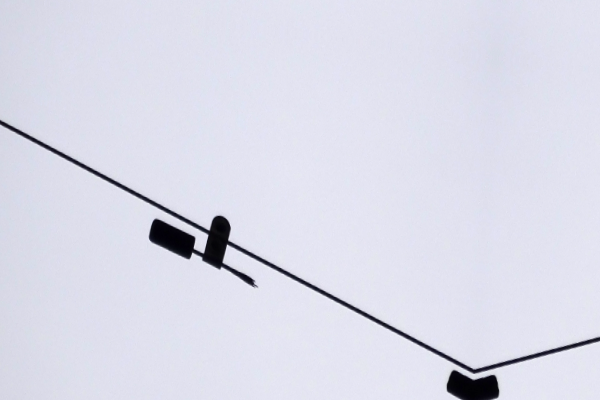damper_defect: (145, 213, 259, 290)
